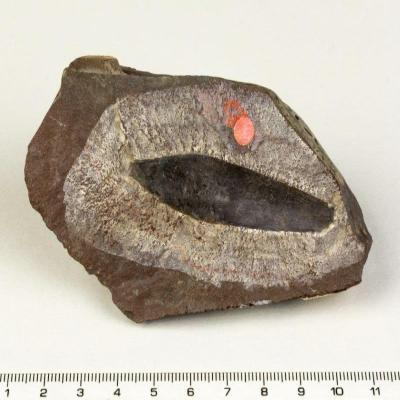natural_science_collection: (25, 56, 373, 325)
